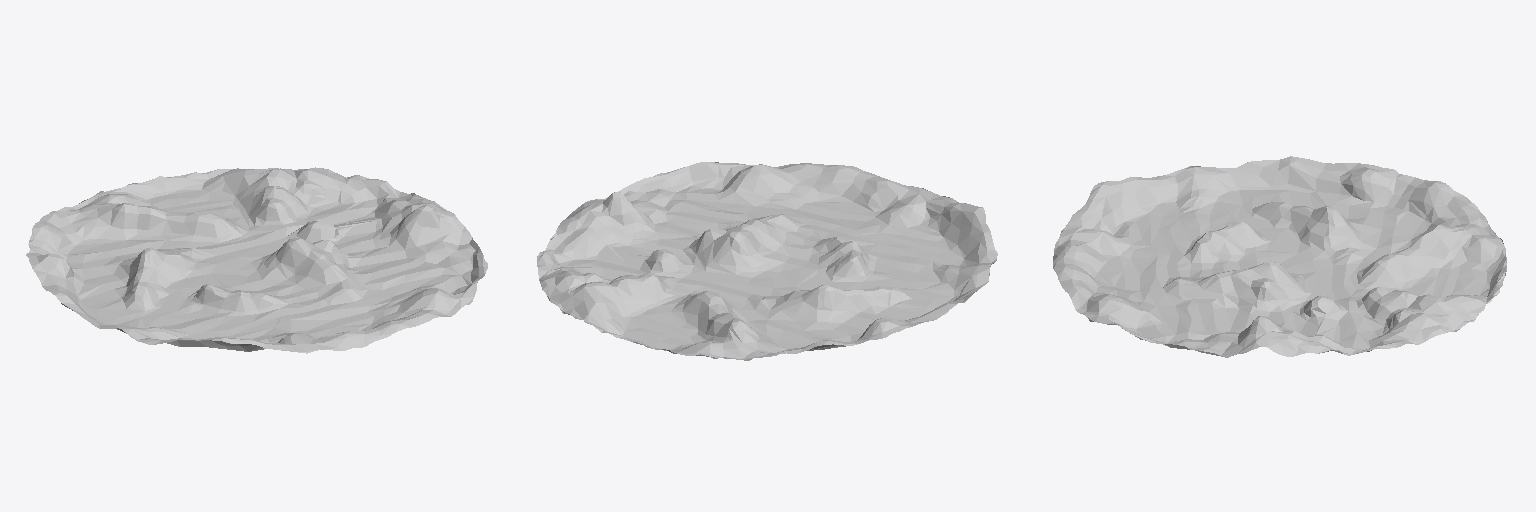
The model's file is terrain.obj.
3 renders of one model, left to right at view 1: azimuth 30°, elevation 25°; view 2: azimuth 150°, elevation 25°; view 3: azimuth 270°, elevation 25°, orthographic.
Parts seen in each view (by area): view 1: terrain; view 2: terrain; view 3: terrain.
Boxes of the visible parts, x1,y1,x2,y2 form: terrain: [26, 167, 487, 353]; terrain: [537, 162, 997, 360]; terrain: [1053, 156, 1506, 357].
Size of the model in its own units: 16.59 by 1.45 by 16.71.